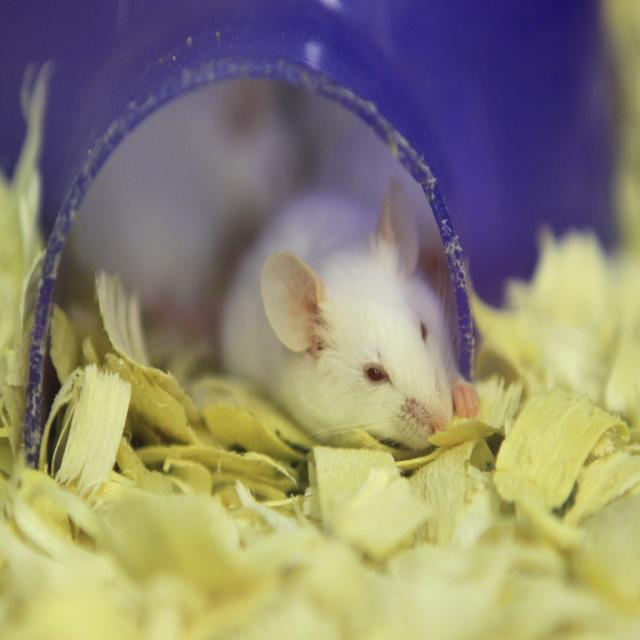rat: (215, 192, 475, 443)
